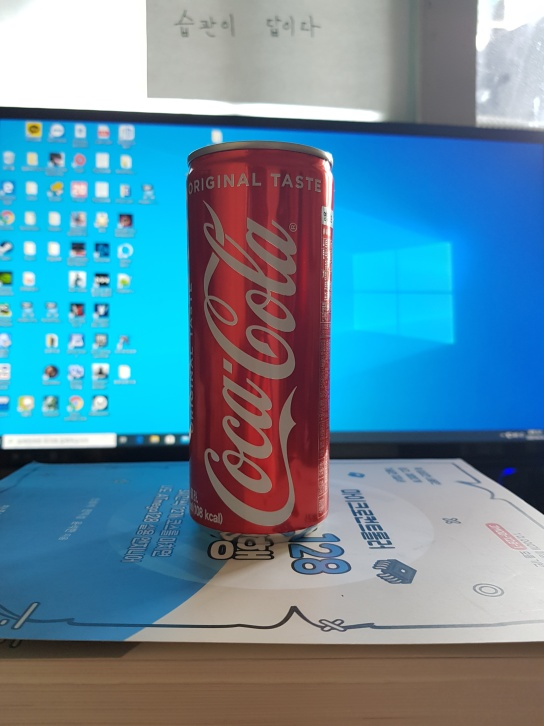Can: (185, 141, 335, 546)
